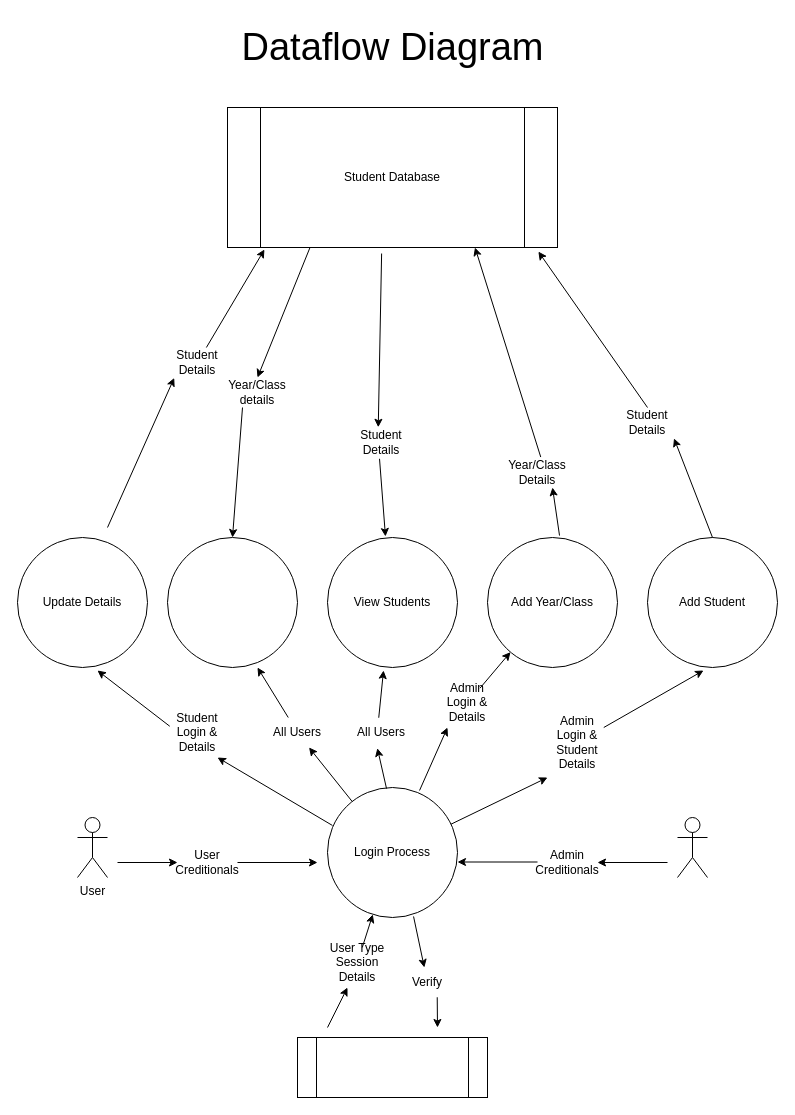
The diagram is 795 pixels wide and 1115 high, and some of its shapes have lost their labels. The box of each missing label's shape, as (x1, y1, x2, y2) in pixels:
Admin: (676, 816, 708, 878)
User Database: (296, 1036, 488, 1098)
View Years/Classes: (166, 536, 298, 668)
